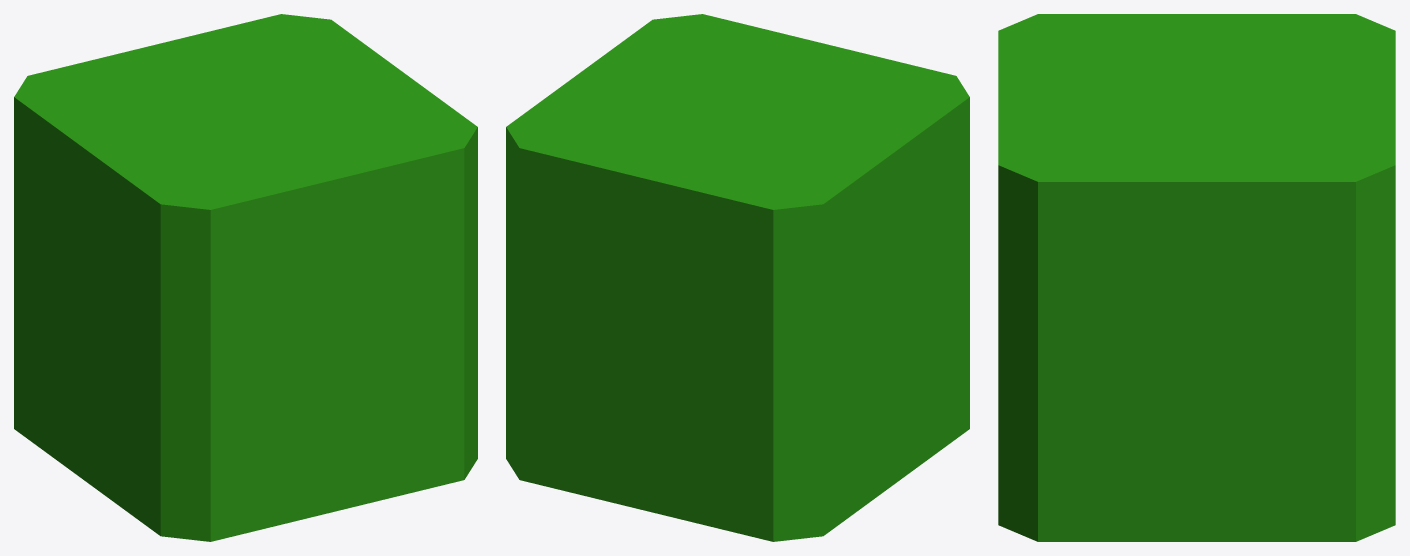
3 renders of one model, left to right at view 1: azimuth 30°, elevation 25°; view 2: azimuth 150°, elevation 25°; view 3: azimuth 270°, elevation 25°, orthographic. The views are drawn at different scales.
Parts seen in each view (by area): view 1: Base; view 2: Base; view 3: Base.
Boxes of the visible parts, x1,y1,x2,y2 form: Base: [14, 14, 477, 541]; Base: [506, 14, 969, 541]; Base: [998, 14, 1395, 541].
Size of the model in its own units: 2 by 2 by 2.
